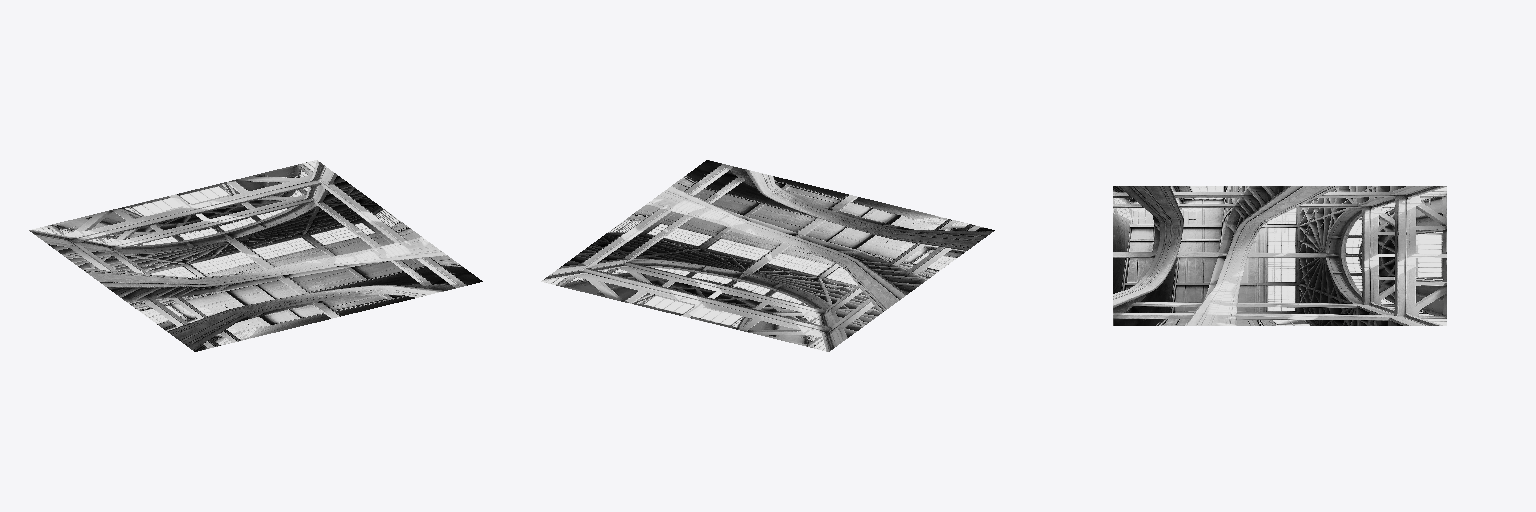
3 renders of one model, left to right at view 1: azimuth 30°, elevation 25°; view 2: azimuth 150°, elevation 25°; view 3: azimuth 270°, elevation 25°, orthographic.
Parts seen in each view (by area): view 1: Plane002; view 2: Plane002; view 3: Plane002.
Part boxes in pixels (x1,y1,x2,y2): Plane002: (29, 160, 482, 351); Plane002: (541, 160, 994, 351); Plane002: (1113, 186, 1446, 325).
Size of the model in its own units: 5.67 by 0 by 5.67.
Materials: 1 (1 with a texture image).